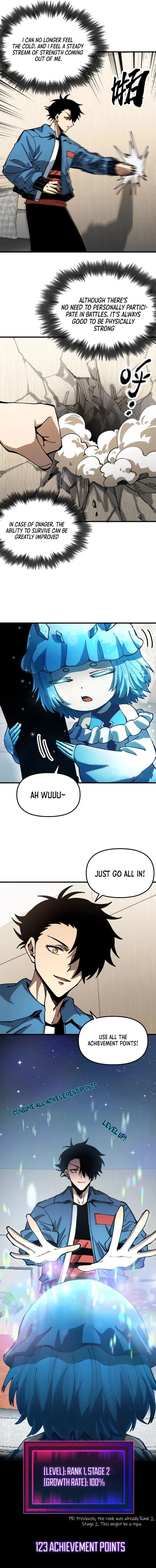bubbles: (30, 258, 156, 363), (1, 0, 112, 97), (21, 1439, 135, 1516), (0, 488, 93, 573), (77, 1009, 151, 1068), (84, 844, 155, 905), (14, 762, 82, 820)
